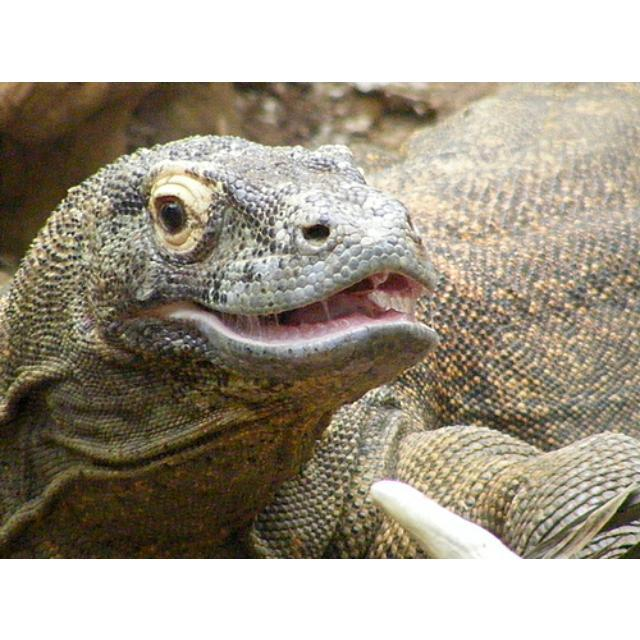KomodoDragon: (2, 130, 636, 480)
